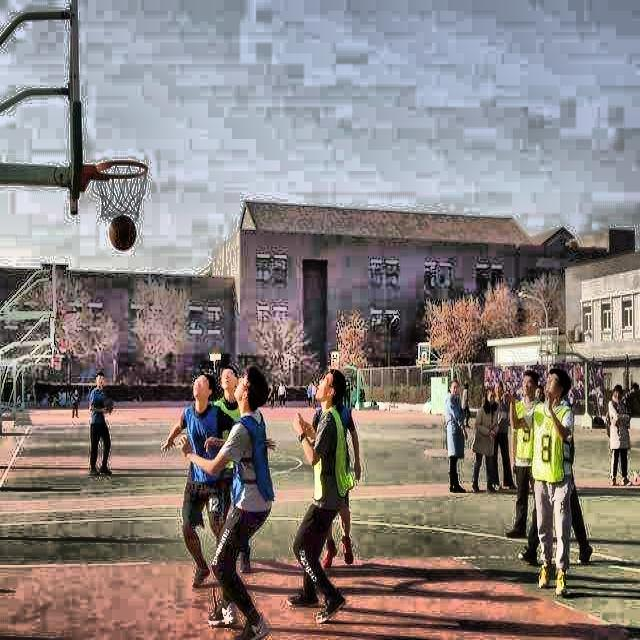board: (109, 215, 138, 251)
rim: (96, 160, 148, 217)
